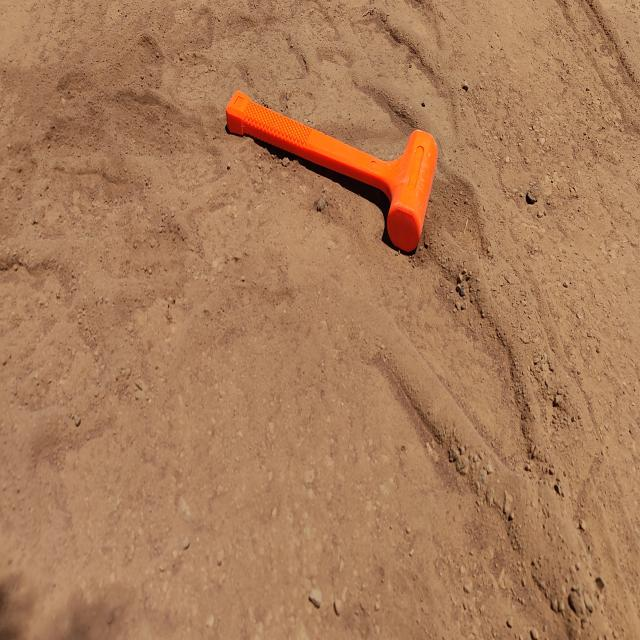Orange_hammer: (225, 88, 438, 255)
